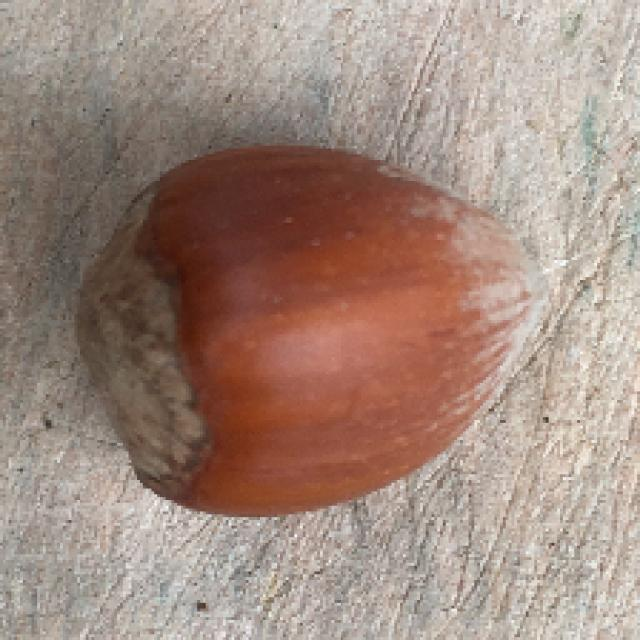QualityHazelnut: (73, 137, 554, 518)
